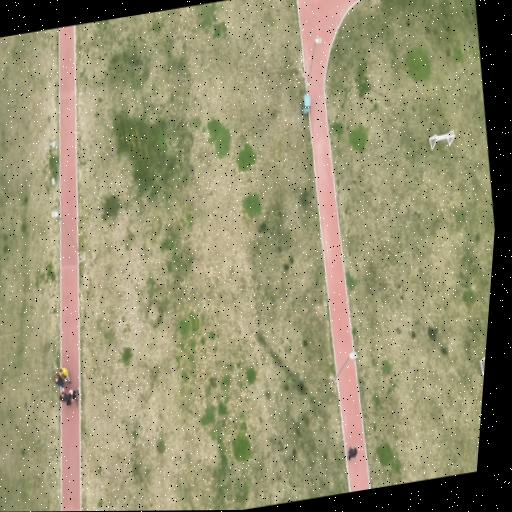person: (69, 388, 80, 405), (59, 367, 71, 382), (60, 392, 71, 406), (54, 374, 64, 389), (348, 447, 357, 460)
